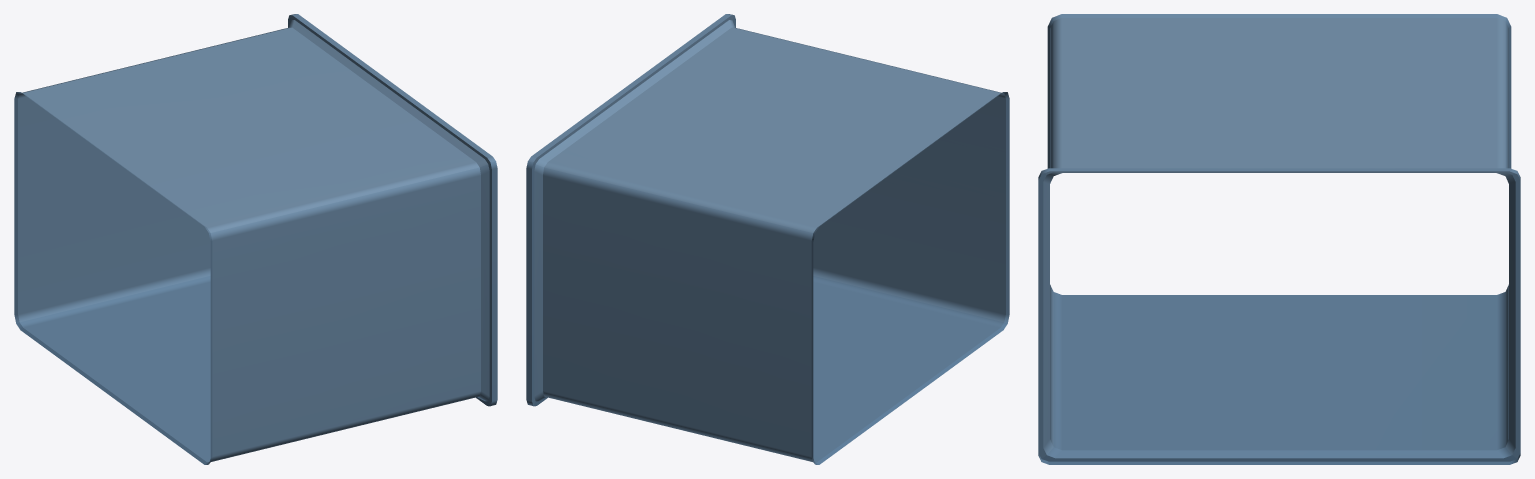
The model's file is vent_2.fbx.
3 views of the same model, side by side, from view 1: azimuth 30°, elevation 25°; view 2: azimuth 150°, elevation 25°; view 3: azimuth 270°, elevation 25° (orthographic). The views are drawn at different scales.
Visible parts, largest first — view 1: vent_2; view 2: vent_2; view 3: vent_2.
Boxes of the visible parts, x1,y1,x2,y2 form: vent_2: (14, 14, 497, 464); vent_2: (526, 14, 1009, 464); vent_2: (1038, 14, 1520, 464).
Bounding box in the file's own units: 50.52 × 42.34 × 63.1.
